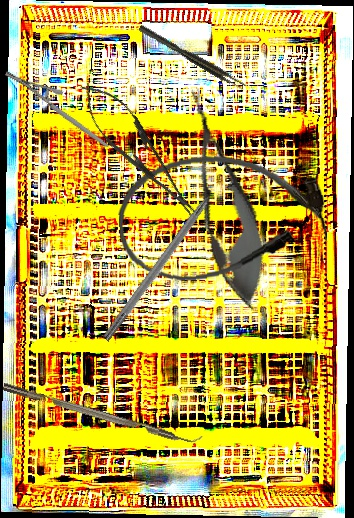Cannula: (113, 145, 331, 288)
Chopper: (2, 372, 204, 451)
Hook Surgical: (101, 174, 229, 344)
Micro Scissor: (166, 78, 282, 318)
Needle Holder: (68, 72, 210, 229), (3, 47, 109, 172)
Tissue Forceps: (138, 21, 247, 93)
